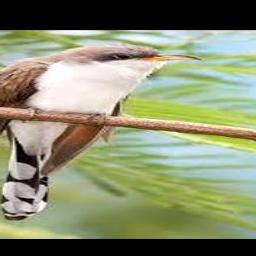Cuckoo: (0, 45, 201, 221)
